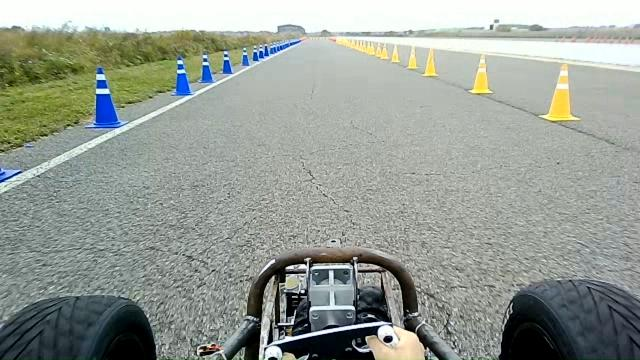blue cone: (84, 66, 129, 129), (170, 54, 194, 96), (197, 50, 216, 83), (220, 48, 233, 74), (241, 46, 250, 66), (251, 45, 260, 62), (257, 43, 265, 60), (263, 43, 269, 57)
yellow cone: (538, 62, 581, 121), (468, 54, 493, 94), (422, 48, 438, 76), (406, 45, 419, 69), (391, 43, 400, 63), (380, 46, 389, 59), (374, 44, 382, 58)
